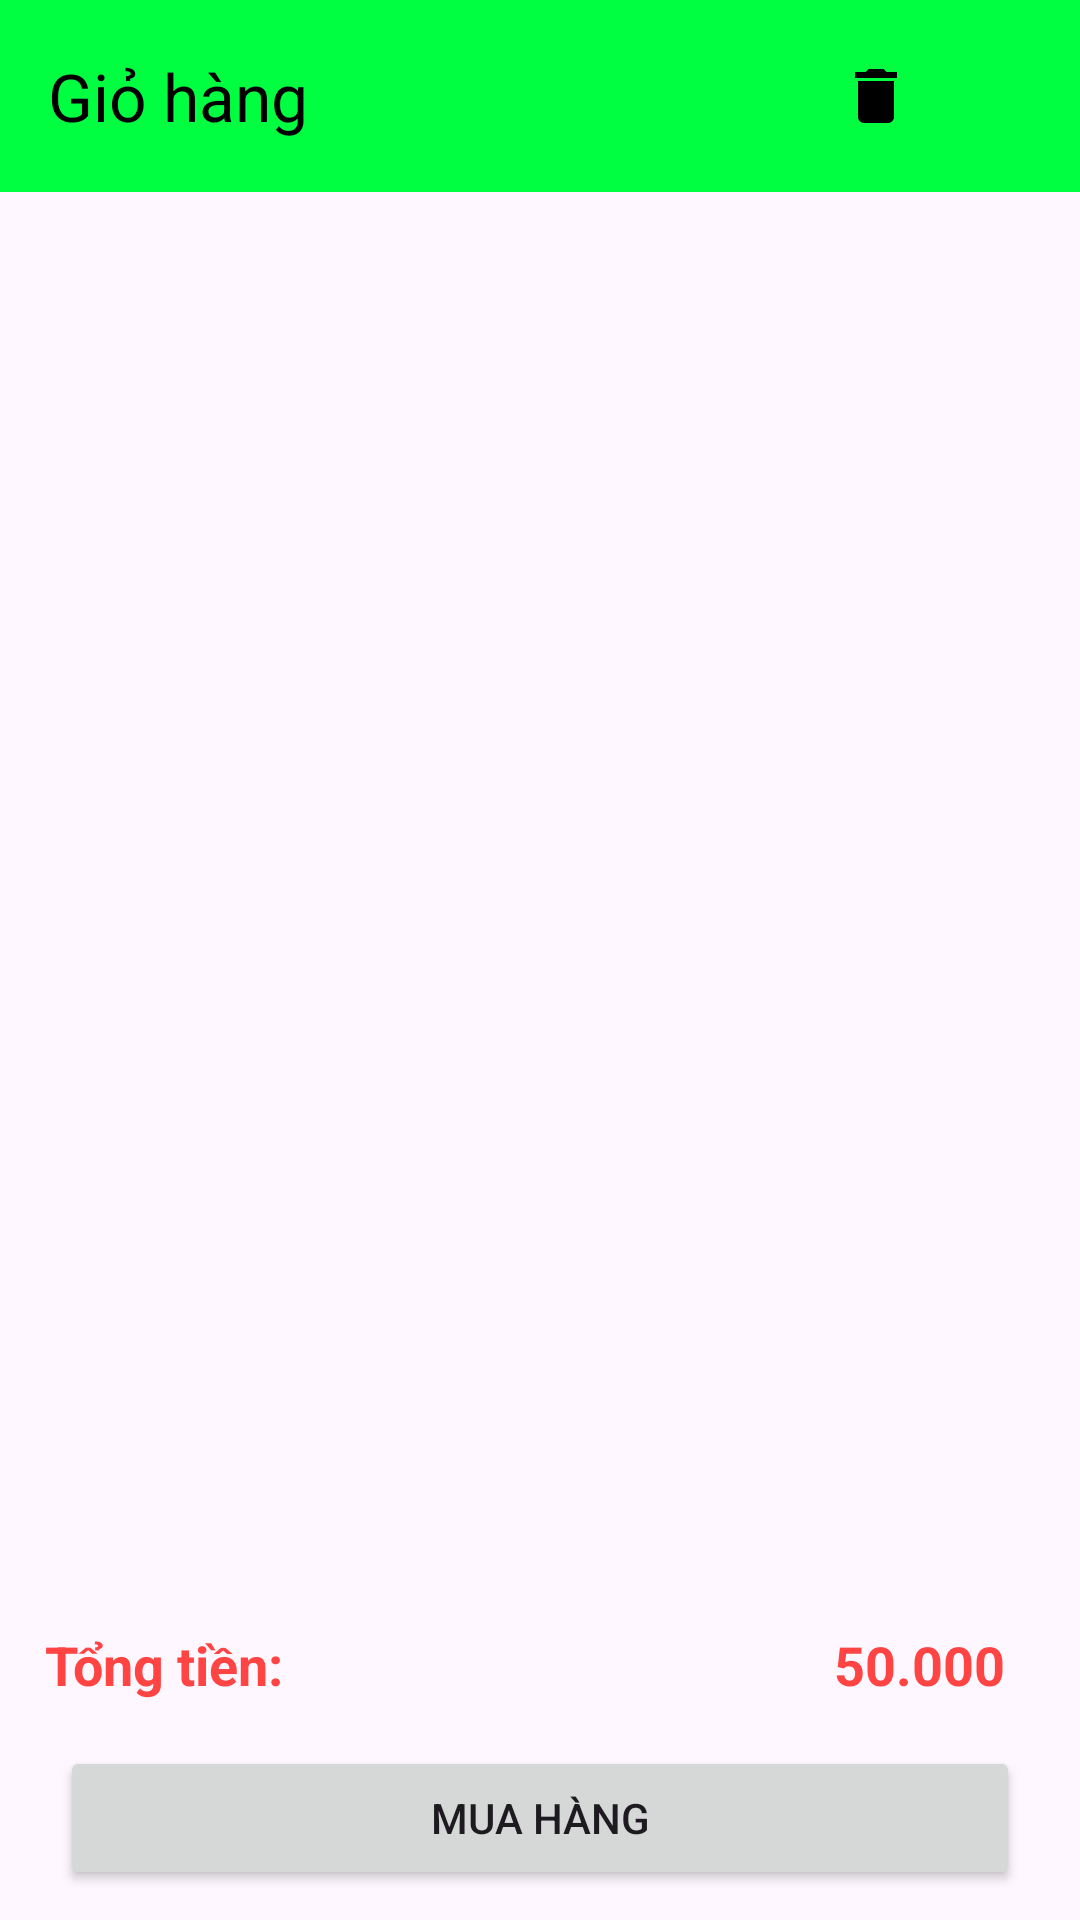

Point at icon controls on the screen. Image size 1080 x 1920, points as (x=x, y=y).
Xoá giỏ hàng: (x=876, y=96)
